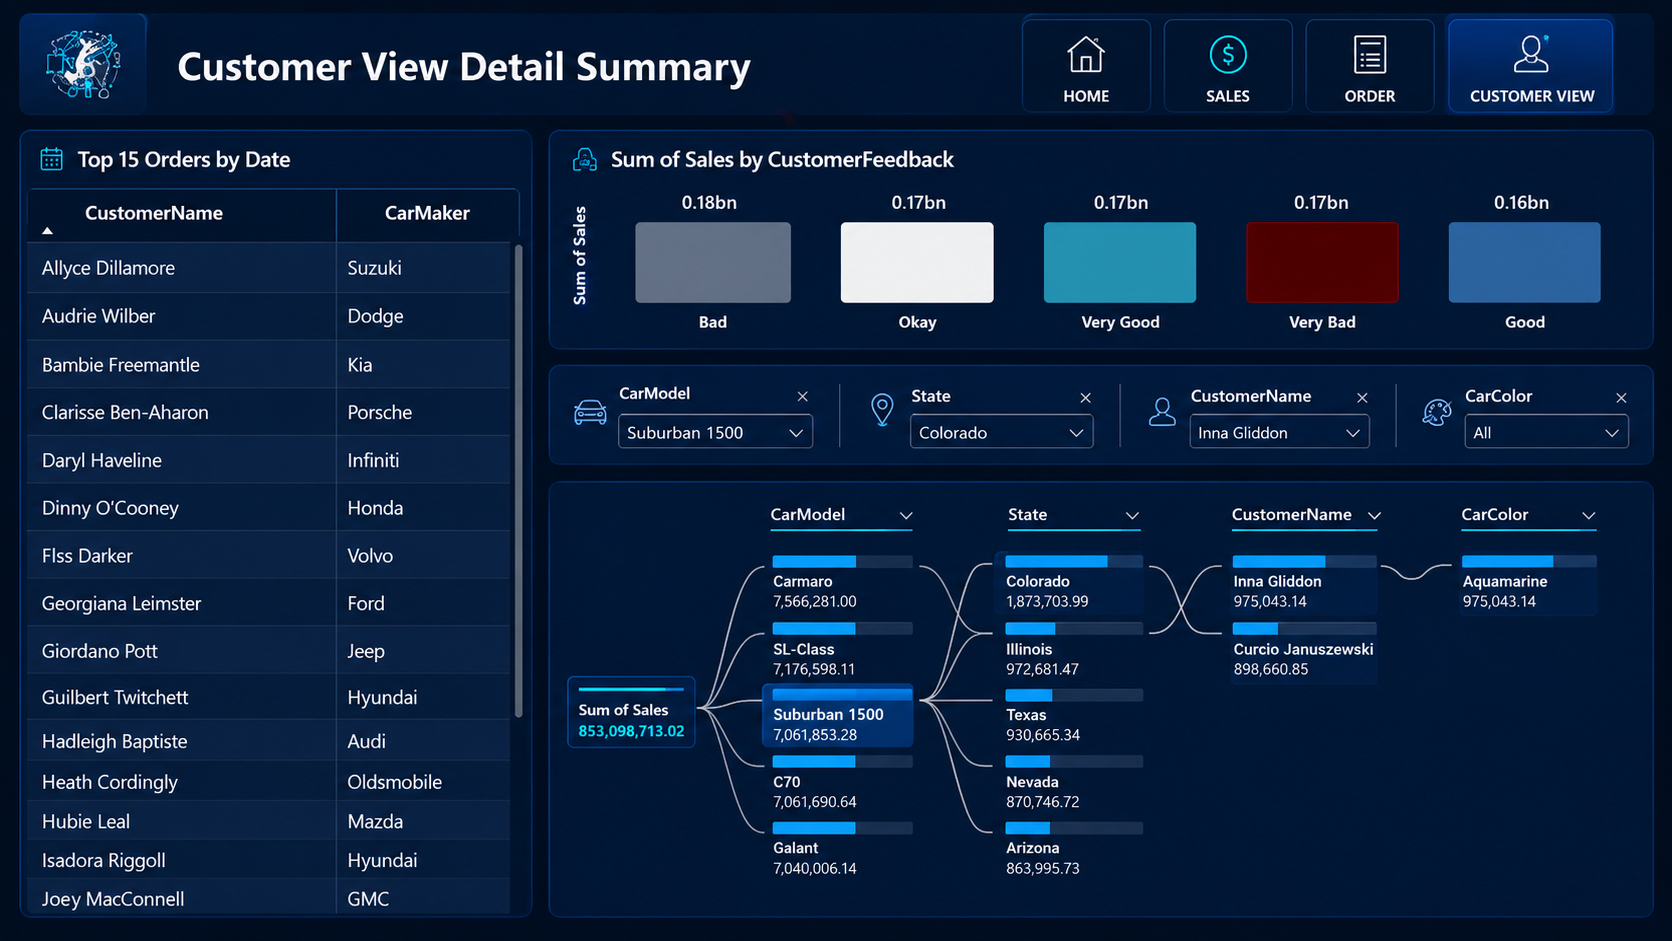

What the dashboard file says about the page in this screenshot:
{"tool":"powerbi","page":{"name":"Customer 360","canvas":[1280,720],"ordinal":3},"visuals":[{"type":"tableEx","title":"Top 15 Orders by Date","fields":{"Values":["cars_data.CustomerName","cars_data.CarMaker"]},"box":[12.6,91.6,394.1,620],"z":0},{"type":"columnChart","fields":{"Y":["Sum(cars_data.Sales)"],"Category":["cars_data.CustomerFeedback"]},"box":[414.2,91.6,851,156.9],"z":1000},{"type":"textbox","box":[176.1,8.4,674.4,61.5],"z":2000},{"type":"shape","box":[14.5,68.8,1249.9,27.7],"z":3000},{"type":"decompositionTreeVisual","fields":{"Analyze":["Sum(cars_data.Sales)"],"ExplainBy":["cars_data.CarModel","cars_data.State","cars_data.CustomerName","cars_data.CarColor","cars_data.ShipMode"]},"box":[414.2,261.1,851,450.6],"z":4000},{"type":"image","box":[24.1,3.6,108.6,79.6],"z":5000},{"type":"image","box":[1038,8,61.5,62.7],"z":6000},{"type":"image","box":[959.6,8,67.6,62.7],"z":7000},{"type":"image","box":[1110.4,8,65.1,62.7],"z":8000},{"type":"image","box":[1188.8,8,66.4,62.7],"z":9000}]}

Visuals, with their boxes in screenshot pixels (x1, y1, x2, y2), scaled from the page's 1280x720 canvas onto the 1672x941 screenshot:
"Top 15 Orders by Date" tableEx: {"x1": 16, "y1": 120, "x2": 531, "y2": 930}
columnChart - Sum(cars_data.Sales) x cars_data.CustomerFeedback: {"x1": 541, "y1": 120, "x2": 1653, "y2": 325}
textbox: {"x1": 230, "y1": 11, "x2": 1111, "y2": 91}
shape: {"x1": 19, "y1": 90, "x2": 1652, "y2": 126}
decompositionTreeVisual - Sum(cars_data.Sales) x cars_data.CarModel: {"x1": 541, "y1": 341, "x2": 1653, "y2": 930}
image: {"x1": 31, "y1": 5, "x2": 173, "y2": 109}
image: {"x1": 1356, "y1": 10, "x2": 1436, "y2": 92}
image: {"x1": 1253, "y1": 10, "x2": 1342, "y2": 92}
image: {"x1": 1450, "y1": 10, "x2": 1535, "y2": 92}
image: {"x1": 1553, "y1": 10, "x2": 1640, "y2": 92}
